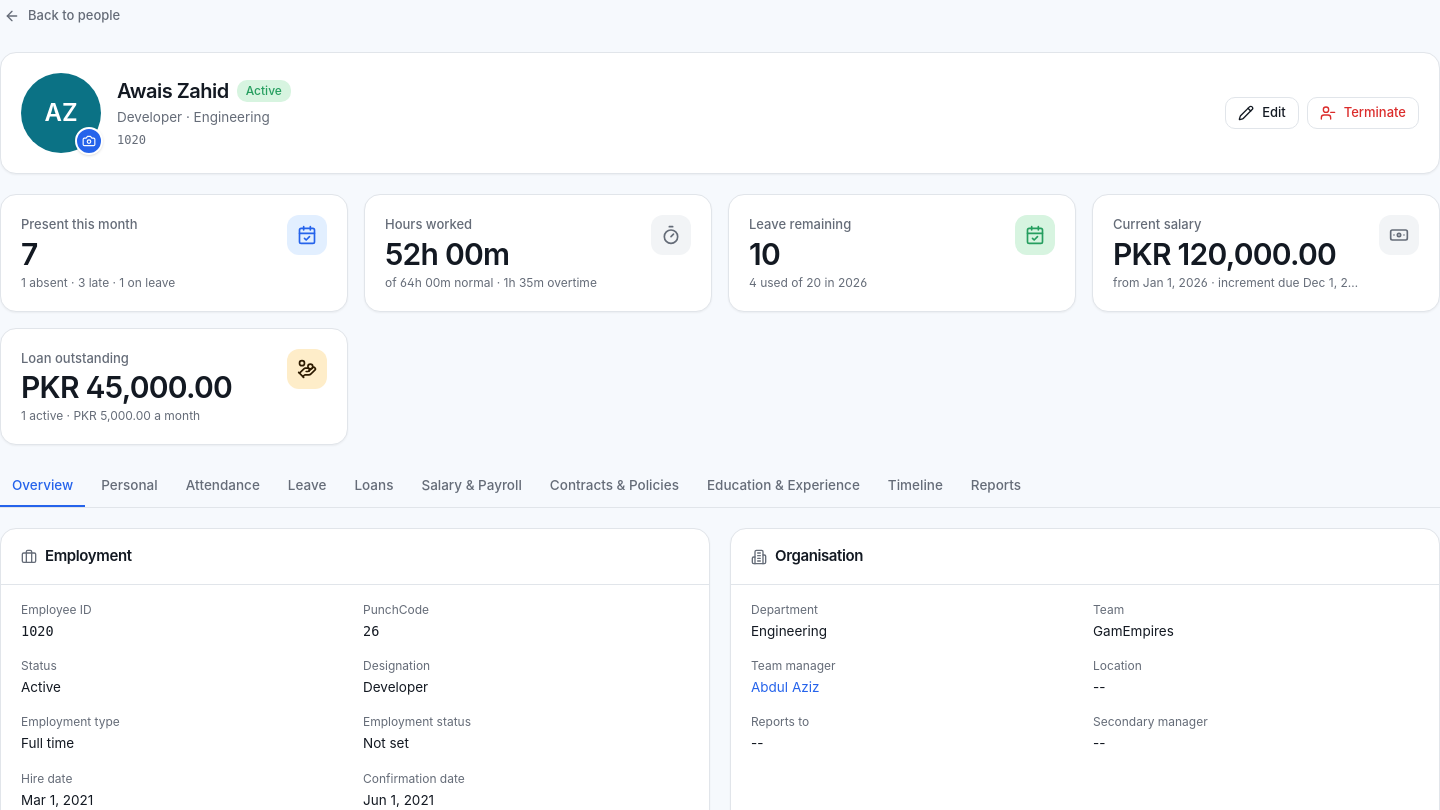
the profile photo control › opens the photo dialog on the existing avatar
The image size is (1440, 810).
Expected: the heading "Awais Zahid" is shown, [117, 77, 229, 105]
Click the button with aria-label "change profile photo" at (61, 113), box [21, 73, 101, 153]
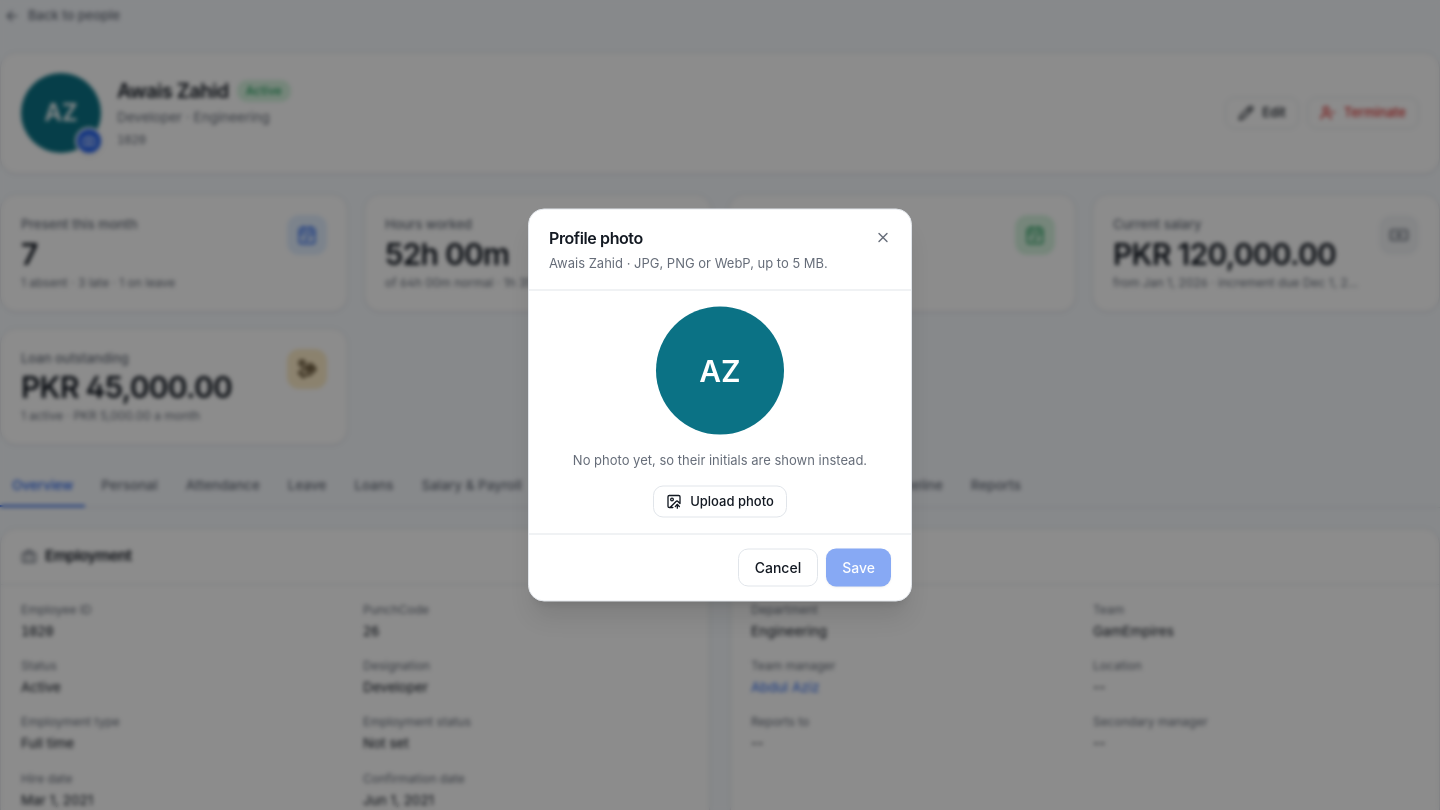
Result: the heading "Profile photo" is shown at [549, 228, 643, 248]
Result: the button "Upload photo" is shown at [653, 486, 787, 518]
Result: the button "Cancel" is shown at [738, 548, 818, 586]
